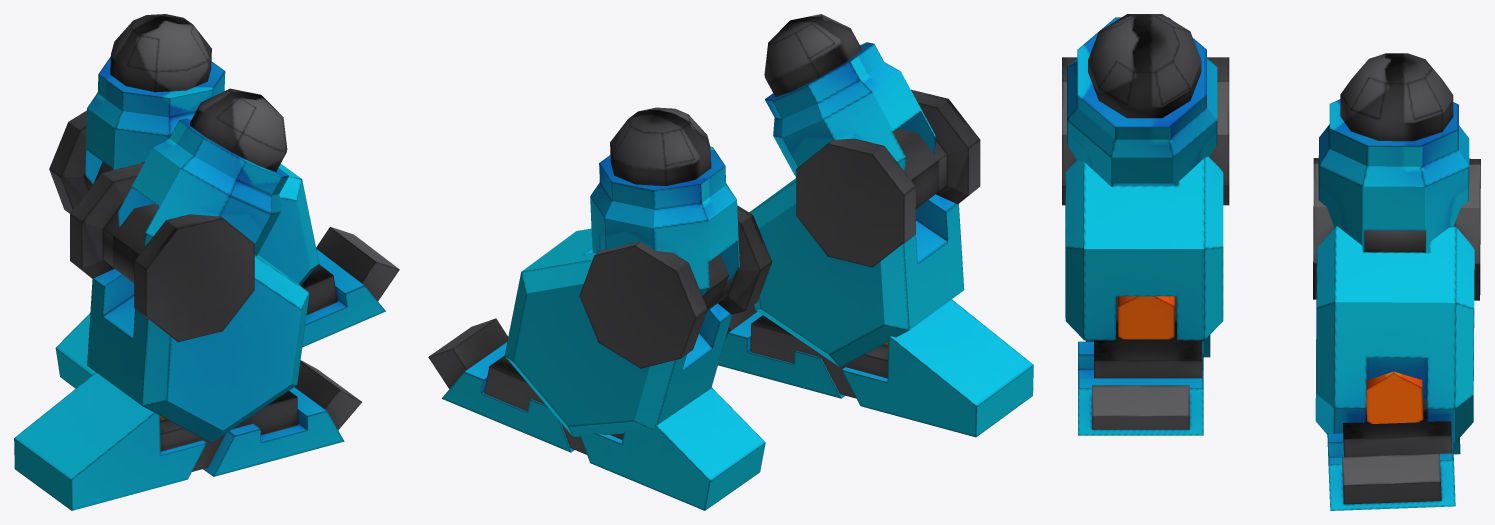
Rendered from Bottom_Idle8.obj.
The picture shows the model from 3 angles, left to right: view 1: azimuth 30°, elevation 25°; view 2: azimuth 150°, elevation 25°; view 3: azimuth 270°, elevation 25°; orthographic projection. The views are drawn at different scales.
Parts seen in each view (by area): view 1: Object013, Object014, Object012, Object009, Object011, Object010; view 2: Object013, Object010, Object014, Object011, Object009, Object012; view 3: Object010, Object013, Object009, Object012, Object014, Object011.
Part boxes in pixels (<box>): Object013: <box>70,162,309,442</box>; Object014: <box>14,360,361,510</box>; Object012: <box>118,88,288,256</box>; Object009: <box>85,14,225,184</box>; Object011: <box>55,227,399,388</box>; Object010: <box>49,110,319,285</box>; Object013: <box>749,89,980,367</box>; Object010: <box>504,205,772,437</box>; Object014: <box>718,299,1033,437</box>; Object011: <box>428,318,765,510</box>; Object009: <box>590,107,739,296</box>; Object012: <box>764,14,935,177</box>; Object010: <box>1313,158,1480,443</box>; Object013: <box>1062,57,1229,340</box>; Object009: <box>1318,53,1469,252</box>; Object012: <box>1067,14,1217,186</box>; Object014: <box>1078,296,1210,435</box>; Object011: <box>1327,371,1460,510</box>.
Bounding box in the file's own units: 128 × 105 × 94.65.
